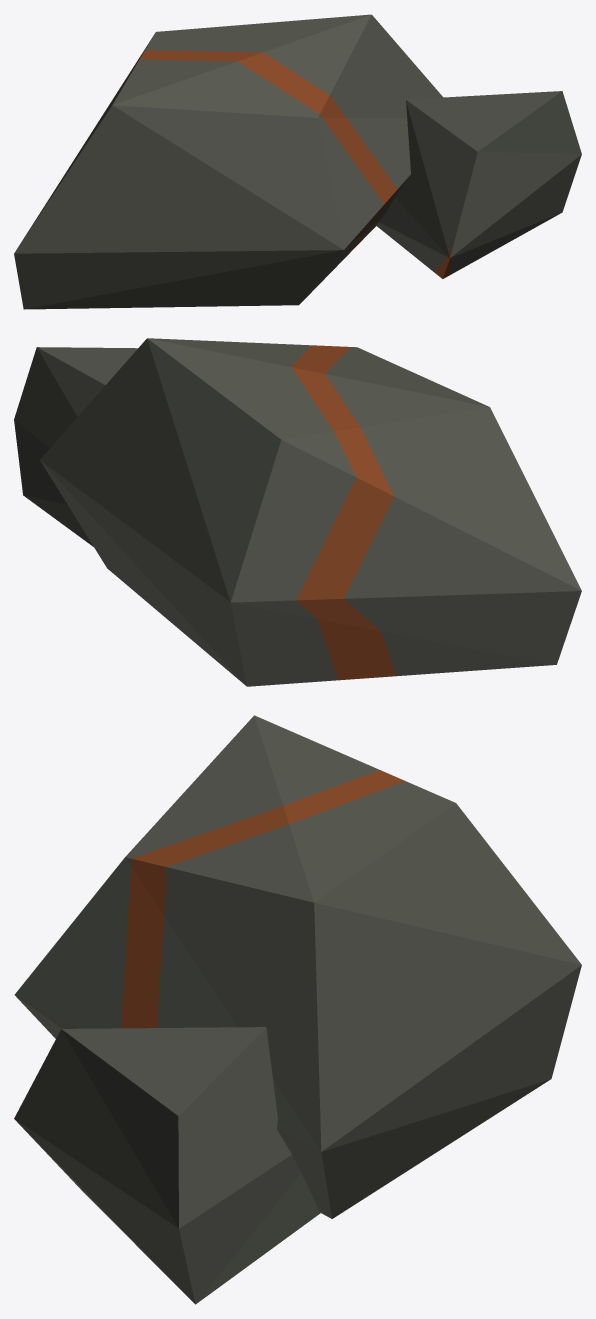
Rendered from ore_copper_v01_lod1.glb.
3 views of the same model, one above another, from view 1: azimuth 30°, elevation 25°; view 2: azimuth 150°, elevation 25°; view 3: azimuth 270°, elevation 25° (orthographic). The views are drawn at different scales.
Parts seen in each view (by area): view 1: ore_copper_v01_lod1; view 2: ore_copper_v01_lod1; view 3: ore_copper_v01_lod1.
Part boxes in pixels (box(x1,y1,x2,y2)): ore_copper_v01_lod1: box(14, 14, 581, 309); ore_copper_v01_lod1: box(14, 338, 581, 686); ore_copper_v01_lod1: box(14, 715, 581, 1304).
Bounding box in the file's own units: 2.81 × 1.03 × 1.79.
